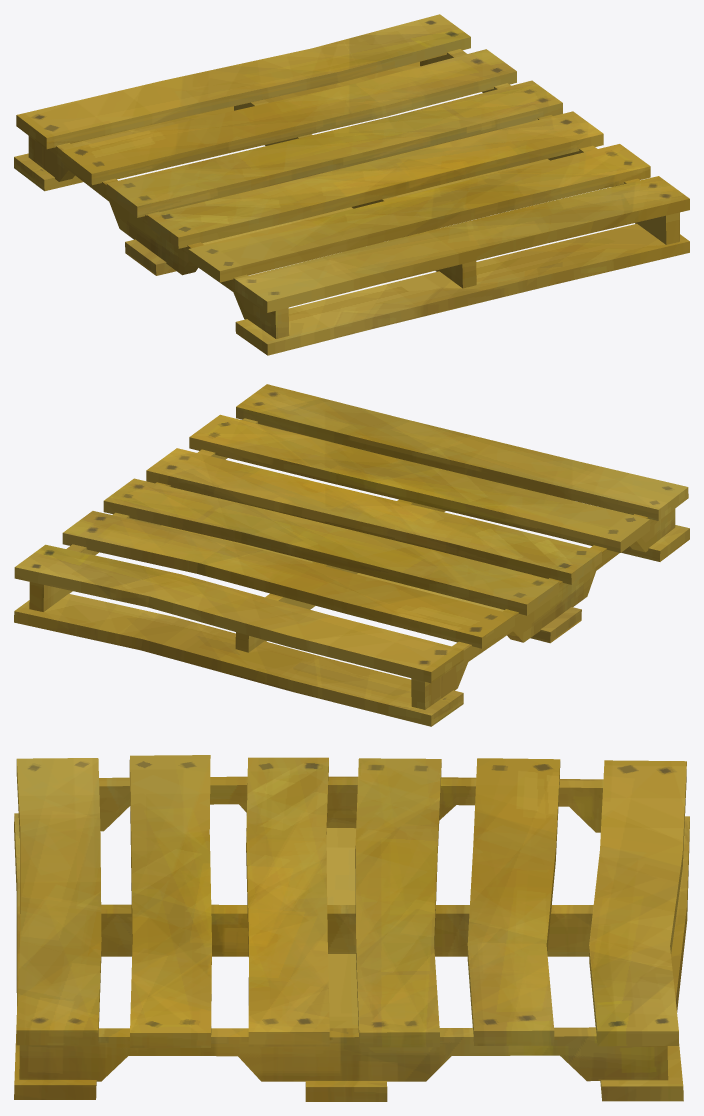
The model's file is WoodPallet.fbx.
3 renders of one model, top to bottom at view 1: azimuth 30°, elevation 25°; view 2: azimuth 150°, elevation 25°; view 3: azimuth 270°, elevation 25°, orthographic. The views are drawn at different scales.
Parts seen in each view (by area): view 1: Cube.001; view 2: Cube.001; view 3: Cube.001.
Boxes of the visible parts, x1,y1,x2,y2 form: Cube.001: [14, 14, 689, 355]; Cube.001: [14, 384, 689, 726]; Cube.001: [14, 755, 689, 1101].
Size of the model in its own units: 334 by 40.3 by 344.
